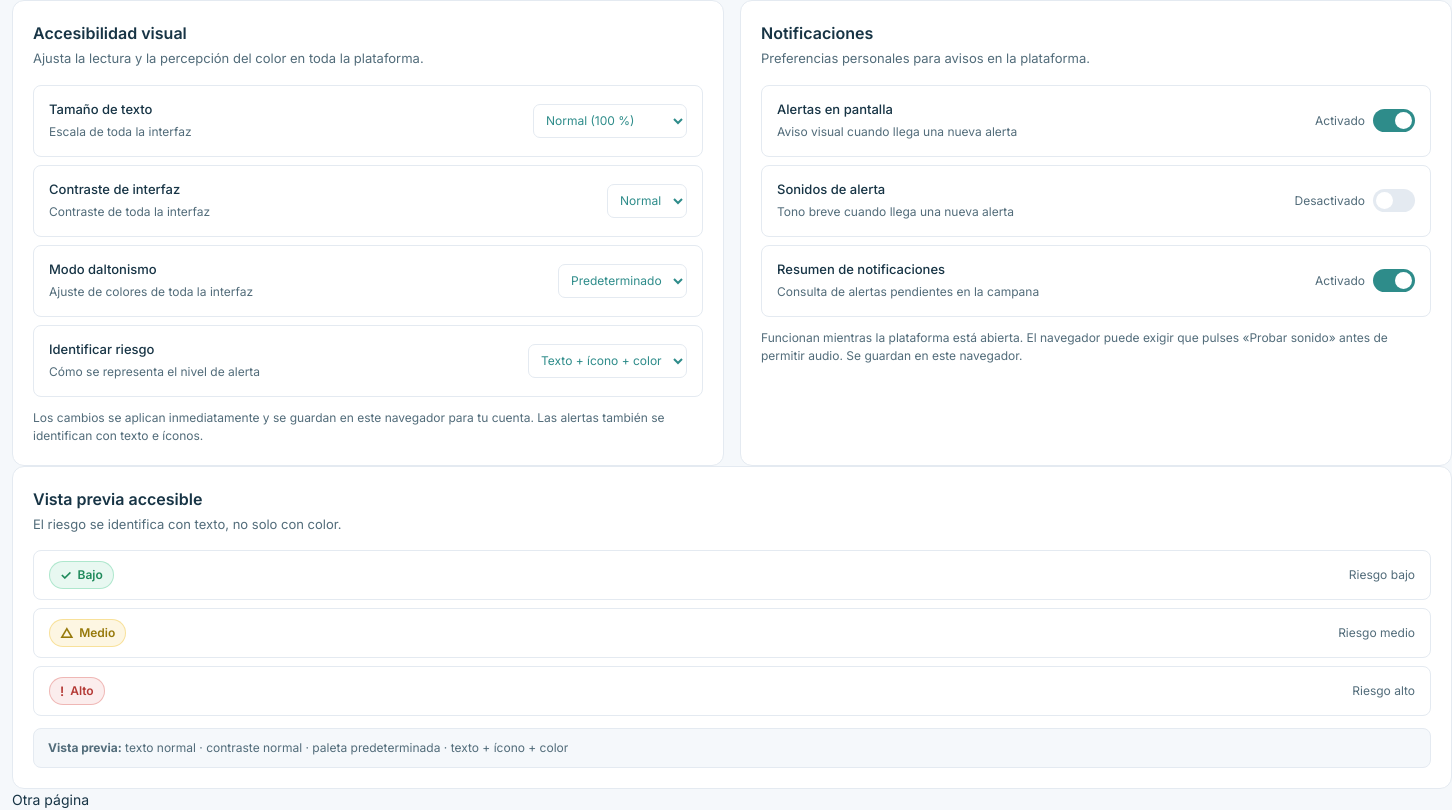
Preferencias de configuración › guarda las preferencias de notificaciones al cambiar los interruptores
The width and height of the screenshot is (1452, 810).
Later steps or results of the test are not shown.
Click the switch named "Sonidos de alerta". click: (1394, 200)
box: [1373,189,1415,212]
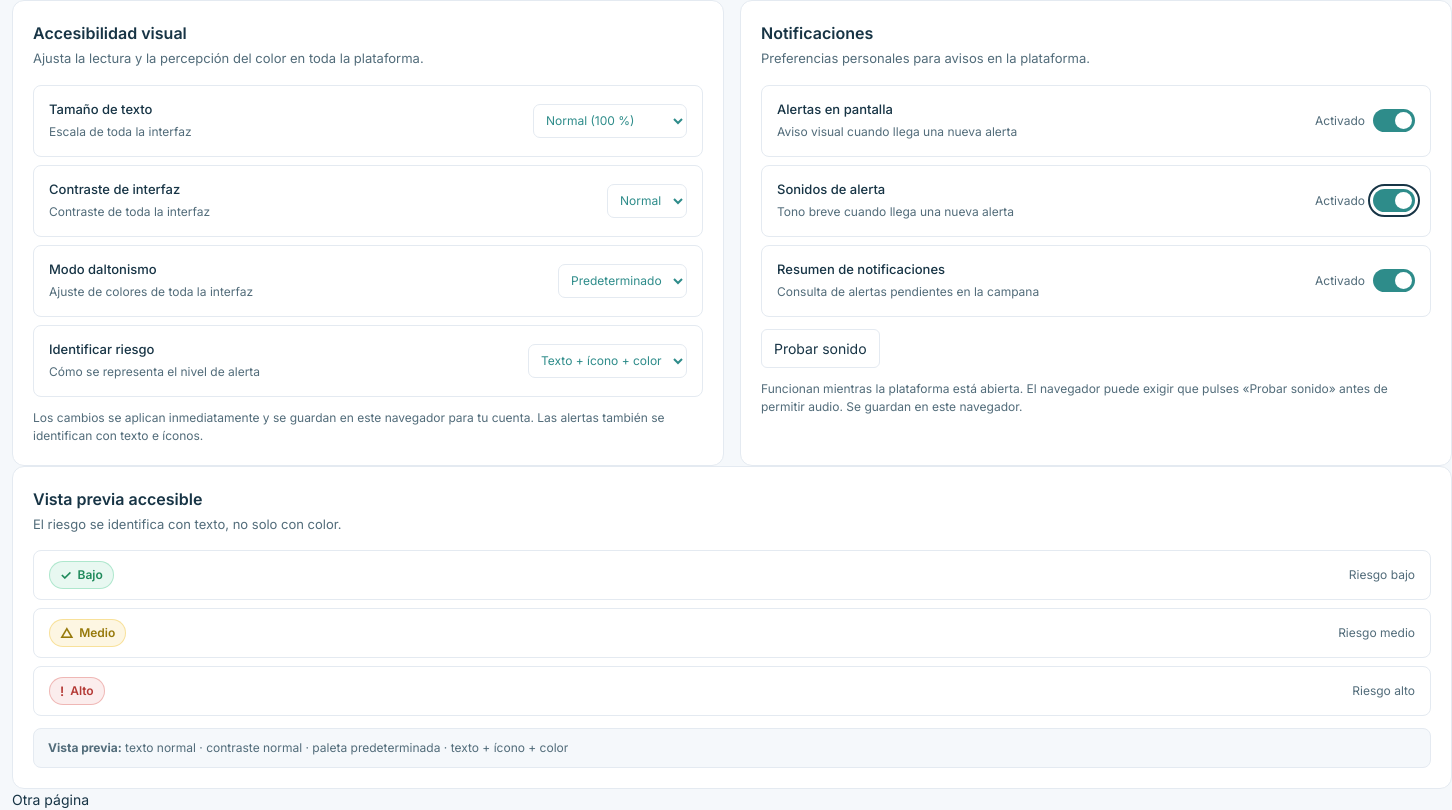
Check: the button "Probar sonido" is shown, box [761,328,880,368]
